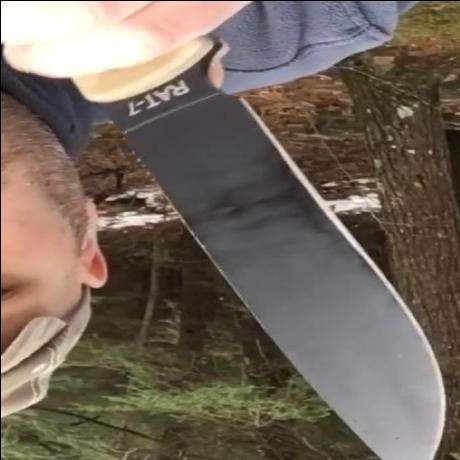weapon: (110, 96, 460, 460)
